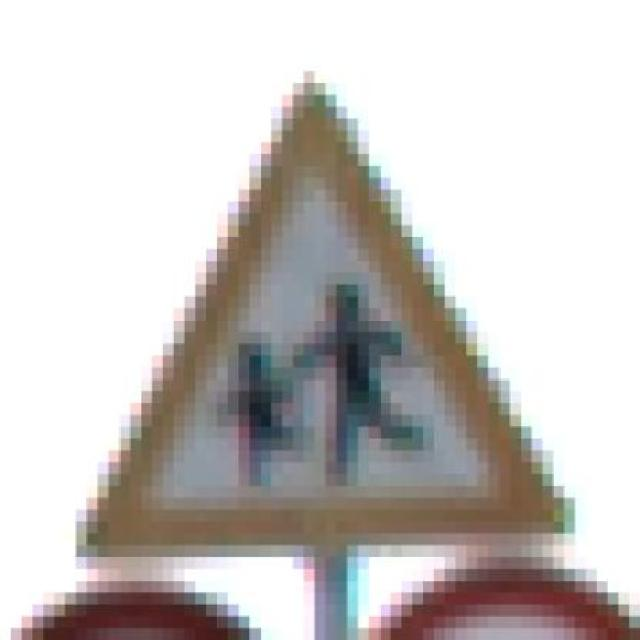Beware of children: (54, 71, 597, 557)
